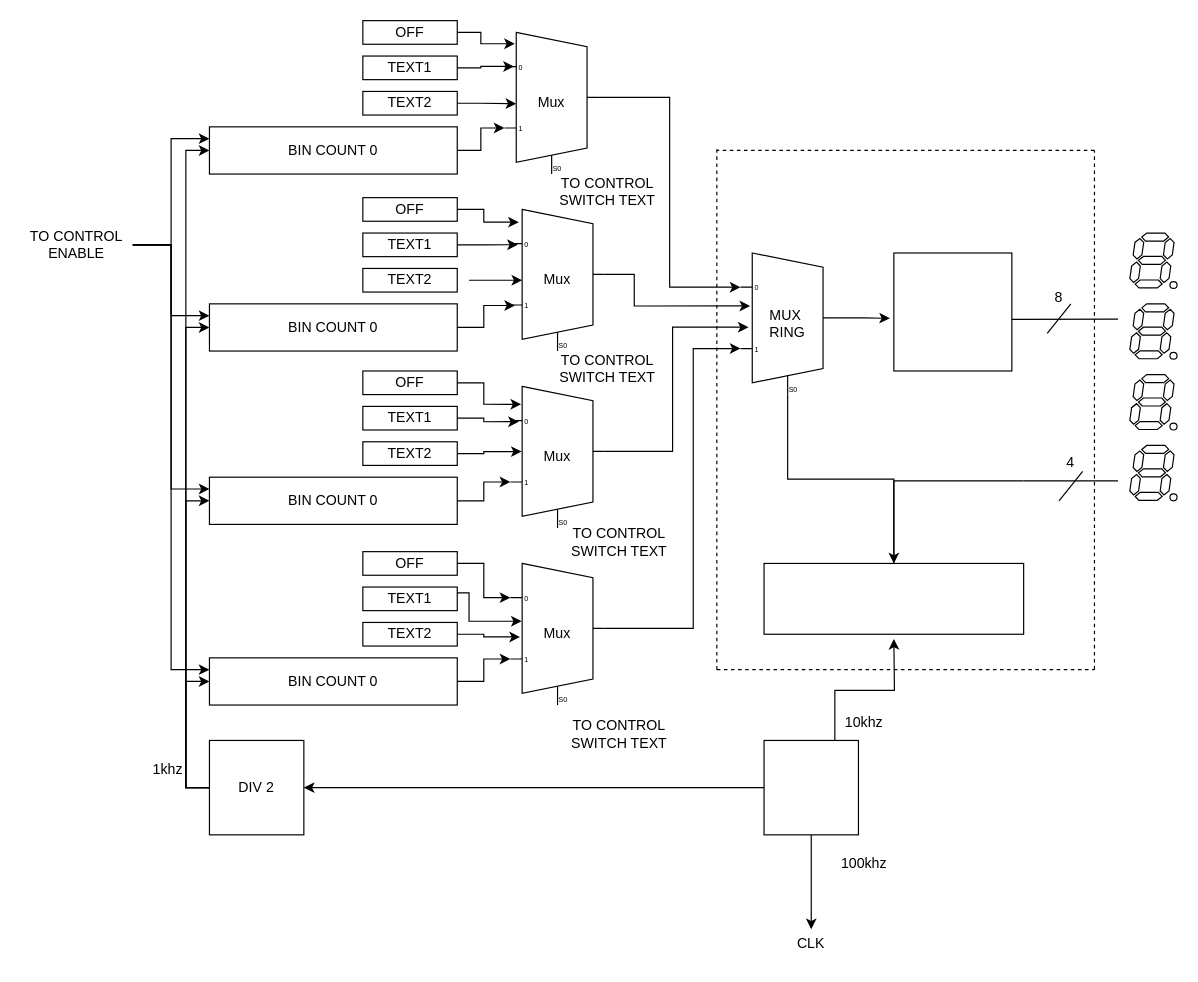
Image size: 1198x982. Some labels were removed from this diagram. Each missing label, with the centre of its shape:
"BCDTO7SEG" belongs at (952,311).
"DIV 1" belongs at (810,787).
"RING COUNTER" belongs at (893,598).
